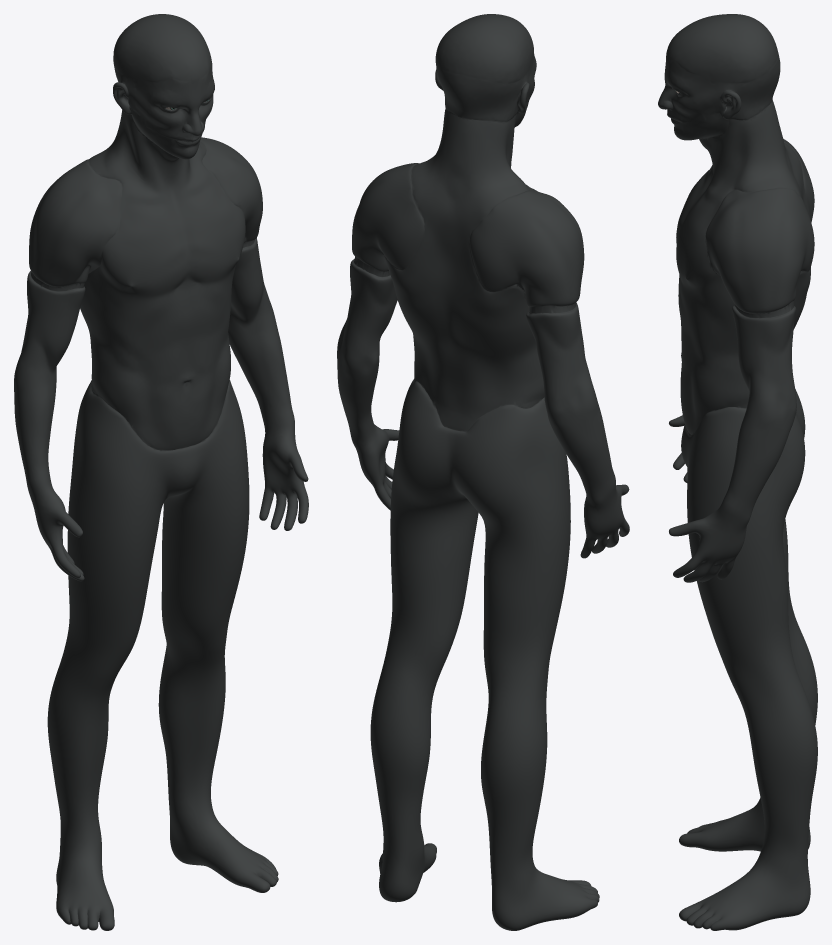
File: man.glb
3 views of the same model, side by side, from view 1: azimuth 30°, elevation 25°; view 2: azimuth 150°, elevation 25°; view 3: azimuth 270°, elevation 25° (orthographic).
Visible parts, largest first — view 1: Body; view 2: Body; view 3: Body.
Part boxes in pixels (x1=…): Body: x1=14, y1=14, x2=308, y2=930; Body: x1=337, y1=14, x2=629, y2=930; Body: x1=658, y1=14, x2=817, y2=930.
Bounding box in the file's own units: 57.88 × 184 × 30.75.
Materials: 3 (1 with a texture image).
